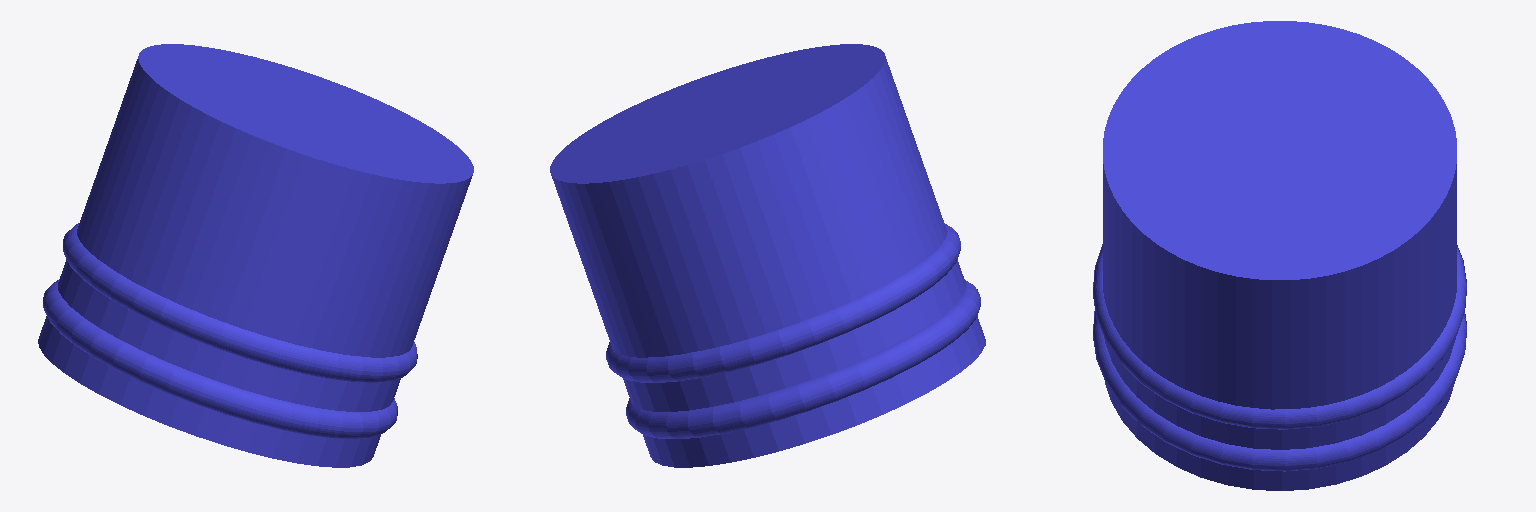
File: bombilla102.obj
3 renders of one model, left to right at view 1: azimuth 30°, elevation 25°; view 2: azimuth 150°, elevation 25°; view 3: azimuth 270°, elevation 25°, orthographic.
Parts seen in each view (by area): view 1: Cylinder001, Cylinder003, Cylinder004, Cylinder006, Cylinder002; view 2: Cylinder001, Cylinder003, Cylinder004, Cylinder006, Cylinder002; view 3: Cylinder001, Cylinder004, Cylinder002, Cylinder003, Cylinder006.
Part boxes in pixels (left/top/right/bottom): Cylinder001: left=77, top=44, right=473, bottom=357; Cylinder003: left=58, top=259, right=400, bottom=411; Cylinder004: left=43, top=280, right=397, bottom=439; Cylinder006: left=38, top=316, right=380, bottom=467; Cylinder002: left=63, top=223, right=417, bottom=382; Cylinder001: left=550, top=44, right=946, bottom=357; Cylinder003: left=623, top=260, right=965, bottom=411; Cylinder004: left=626, top=280, right=980, bottom=438; Cylinder006: left=643, top=316, right=985, bottom=467; Cylinder002: left=606, top=224, right=960, bottom=382; Cylinder001: left=1103, top=21, right=1456, bottom=409; Cylinder004: left=1093, top=311, right=1466, bottom=471; Cylinder002: left=1093, top=244, right=1466, bottom=429; Cylinder003: left=1104, top=338, right=1455, bottom=449; Cylinder006: left=1105, top=379, right=1455, bottom=490.
Size of the model in its own units: 85.76 by 80.87 by 72.21.